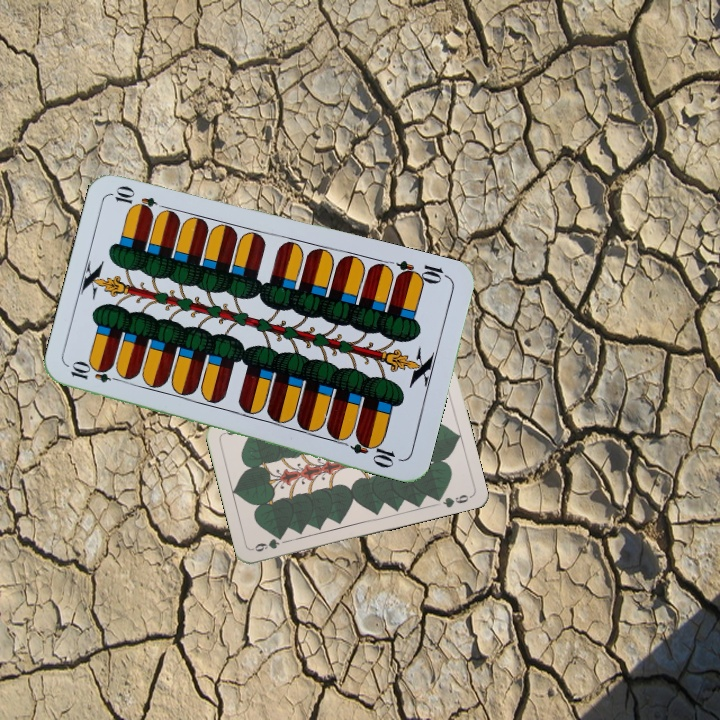E10: (392, 256, 451, 287), (67, 360, 126, 386)
G9: (249, 535, 282, 554)
